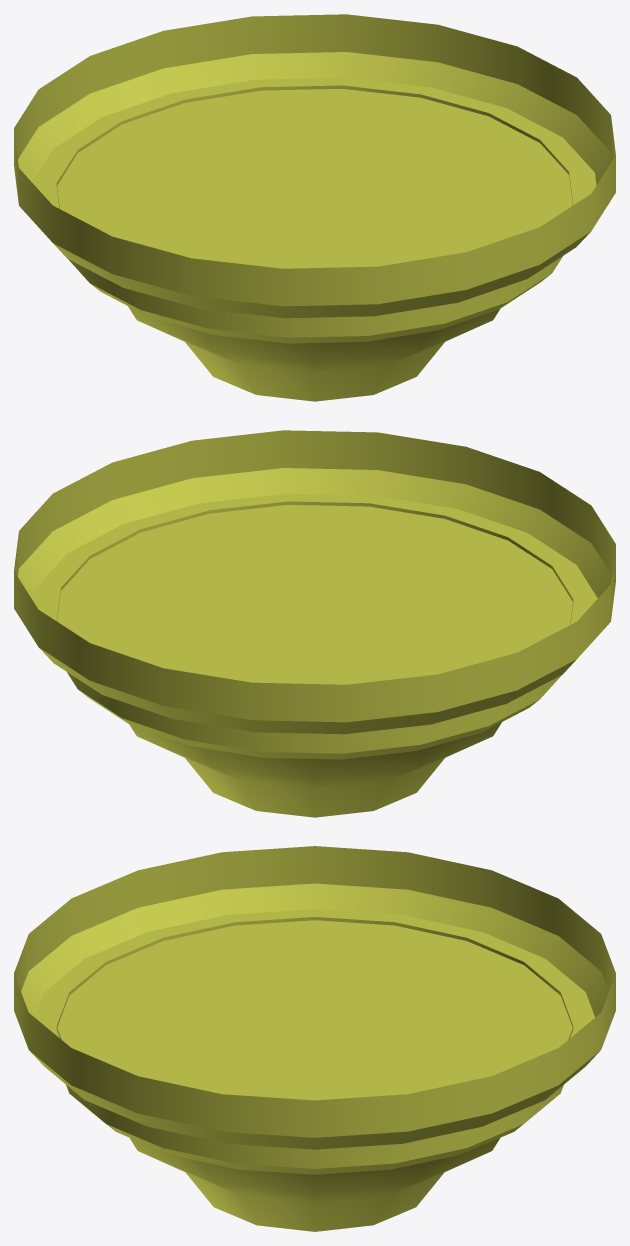
The model's file is vagon lamp.FBX.
The picture shows the model from 3 angles, top to bottom: view 1: azimuth 30°, elevation 25°; view 2: azimuth 150°, elevation 25°; view 3: azimuth 270°, elevation 25°; orthographic projection.
Visible parts, largest first — view 1: Cylinder186; view 2: Cylinder186; view 3: Cylinder186.
Boxes of the visible parts, bbox=[...] form: Cylinder186: bbox=[14, 14, 615, 401]; Cylinder186: bbox=[14, 430, 615, 817]; Cylinder186: bbox=[14, 846, 615, 1231].
Size of the model in its own units: 0.3732 by 0.1677 by 0.3732.
